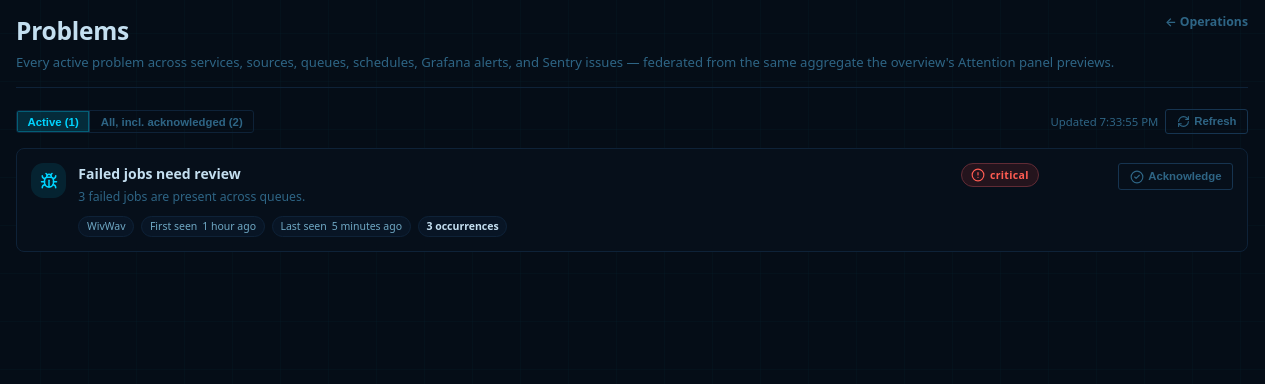
it: ProblemsClient (issue #892) › reveals acknowledged problems (without losing them) via the "All, incl. acknowledged" filter
This screenshot has width=1265, height=384.
Expected: the link "Failed jobs need review" is shown, [78,163,241,184]
Click the button "All, incl. acknowledged (2)": (172, 122) [90,111,253,132]
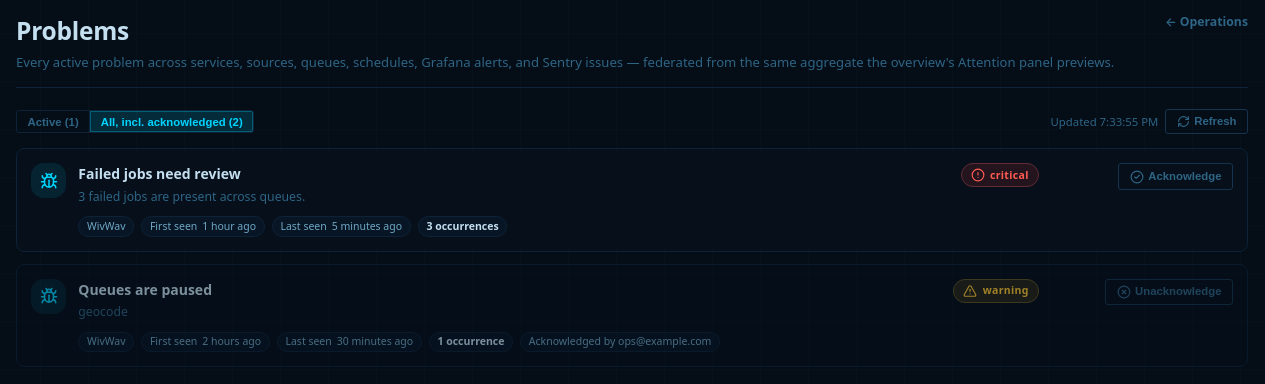
Expected: the link "Queues are paused" is shown, [78,279,212,300]
